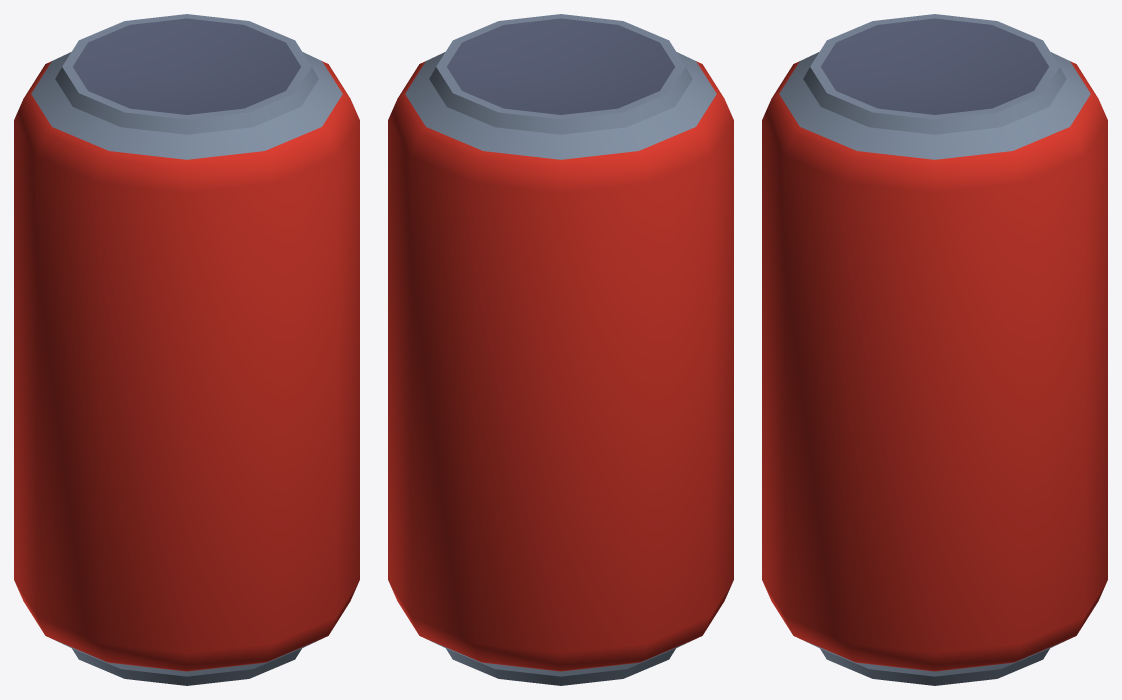
Rendered from Can.fbx.
3 renders of one model, left to right at view 1: azimuth 30°, elevation 25°; view 2: azimuth 150°, elevation 25°; view 3: azimuth 270°, elevation 25°, orthographic.
Parts seen in each view (by area): view 1: Can; view 2: Can; view 3: Can.
Part boxes in pixels (left/top/right/bottom): Can: left=14, top=14, right=359, bottom=685; Can: left=388, top=14, right=733, bottom=685; Can: left=762, top=14, right=1107, bottom=685.
Bounding box in the file's own units: 0.0976 × 0.0976 × 0.1765.
